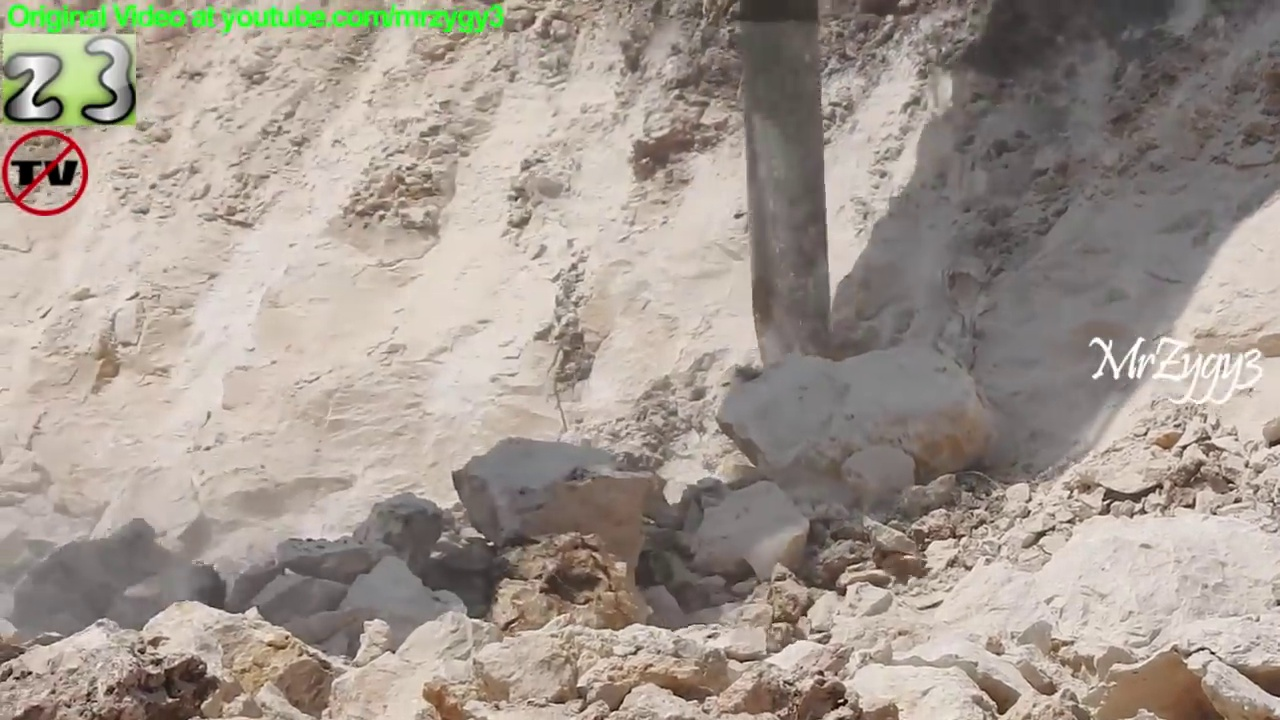excavator: (699, 1, 881, 398)
